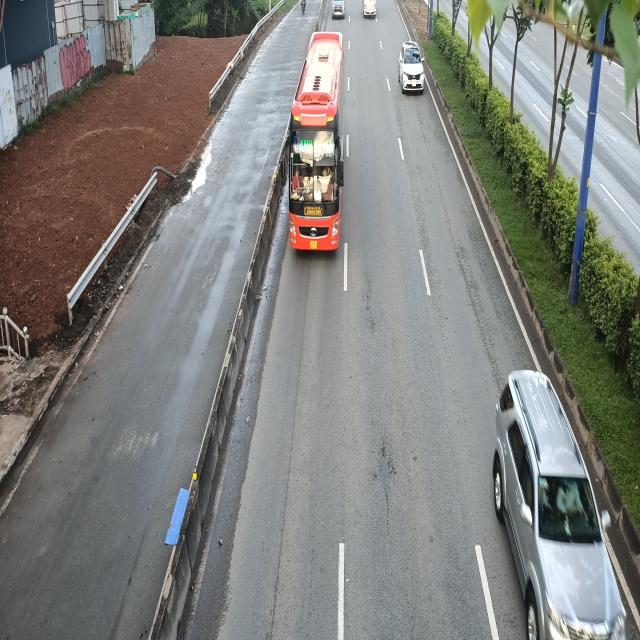car: (491, 364, 624, 636), (399, 42, 426, 94)
coach: (280, 38, 345, 252)
